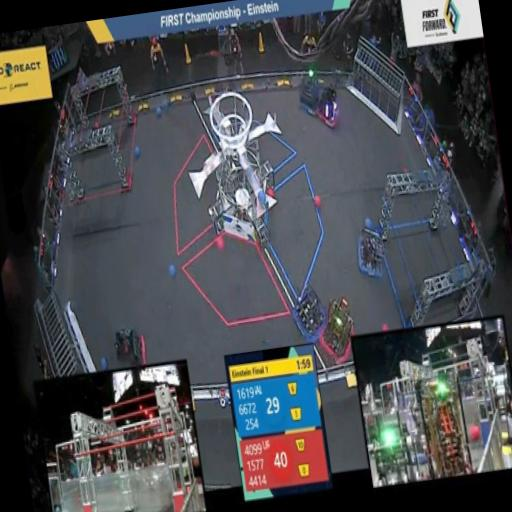robot: (310, 292, 360, 368), (346, 214, 394, 286), (284, 282, 331, 344), (291, 64, 328, 126), (106, 320, 149, 370), (308, 84, 346, 140)
